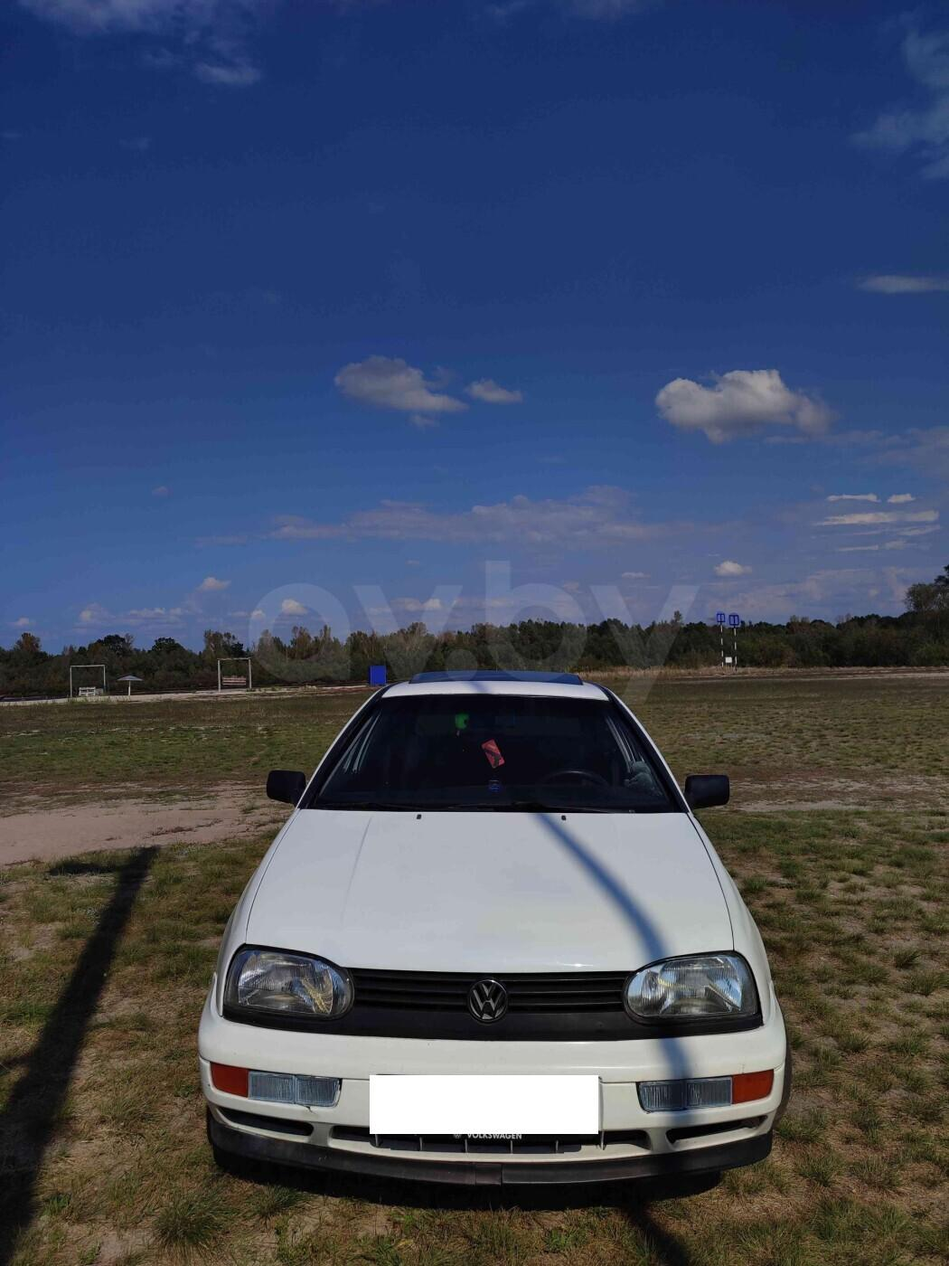Golf_1991-2000: (203, 674, 793, 1177)
